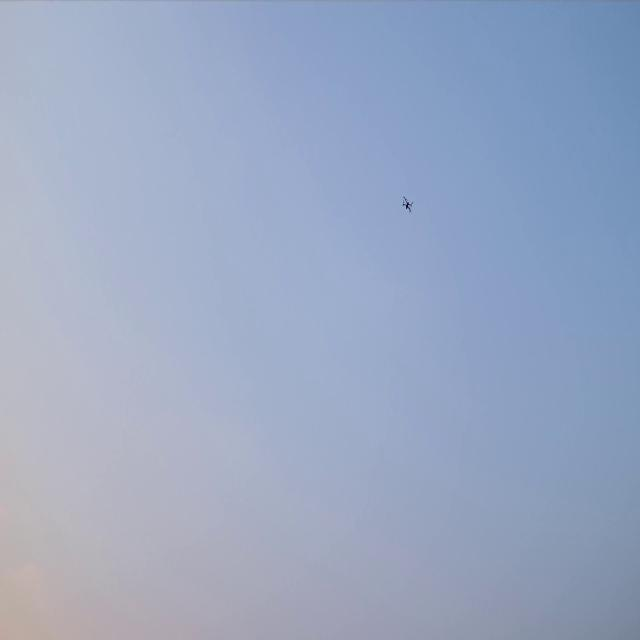UAV: (403, 198, 411, 211)
